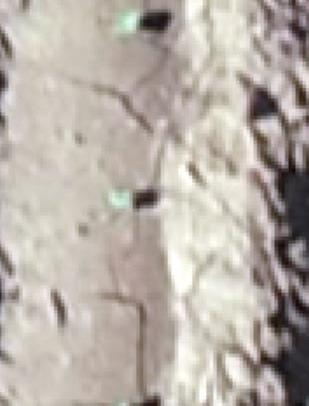cotton: (115, 11, 141, 30), (111, 189, 132, 209)
